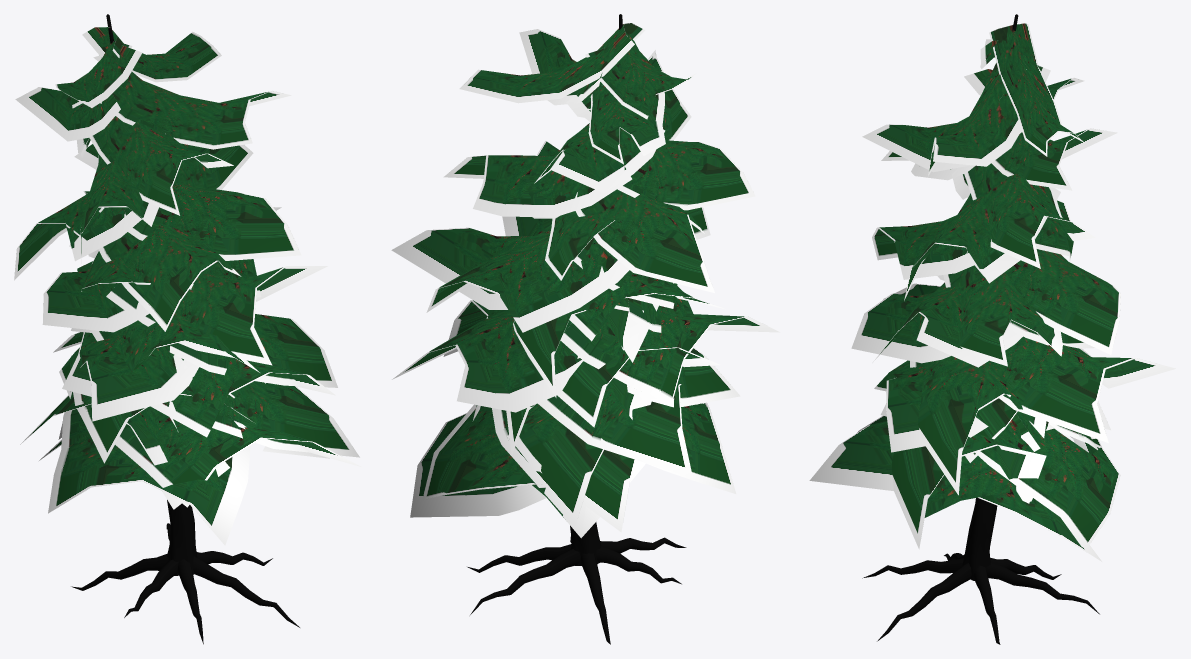
The model's file is Pine_5_LOD0.fbx.
The picture shows the model from 3 angles, left to right: view 1: azimuth 30°, elevation 25°; view 2: azimuth 150°, elevation 25°; view 3: azimuth 270°, elevation 25°; orthographic projection. The views are drawn at different scales.
Visible parts, largest first — view 1: Object002; view 2: Object002; view 3: Object002.
Part boxes in pixels (x1,y1,x2,y2): Object002: [14, 14, 361, 644]; Object002: [391, 14, 779, 644]; Object002: [809, 14, 1175, 644].
Size of the model in its own units: 158 by 304 by 177.
